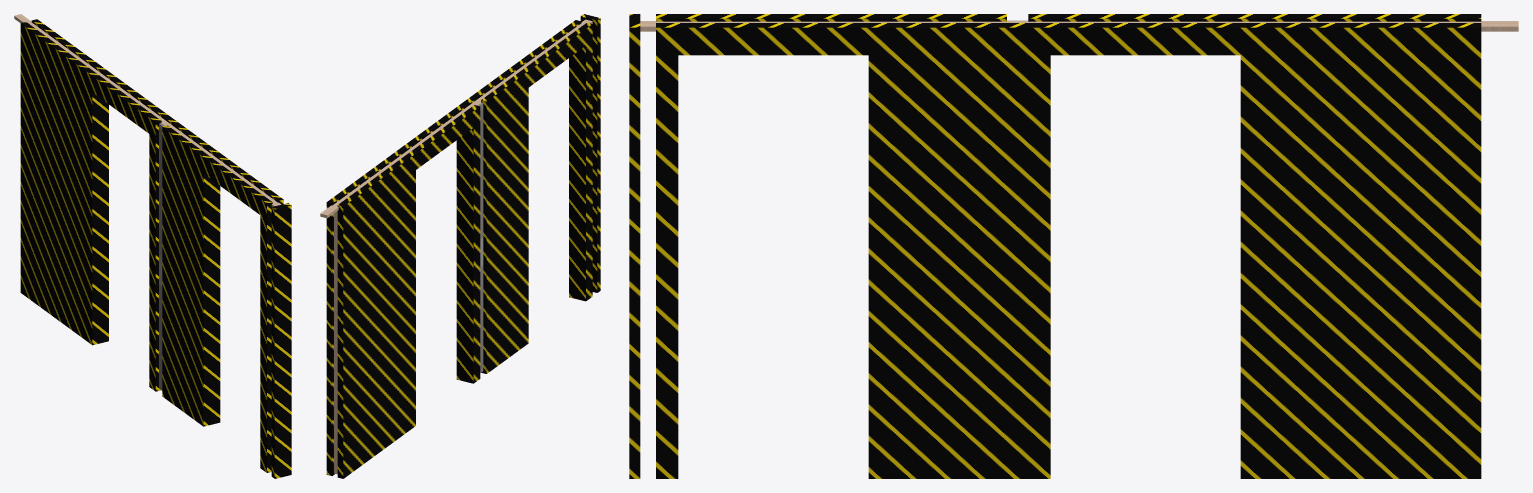
The model's file is WALLSET_L.FBX.
3 renders of one model, left to right at view 1: azimuth 30°, elevation 25°; view 2: azimuth 150°, elevation 25°; view 3: azimuth 270°, elevation 25°, orthographic. The views are drawn at different scales.
Parts seen in each view (by area): view 1: SELECTOR_21, WALL_SET_D03, WALL_SET_D01; view 2: SELECTOR_21, WALL_SET_D03, WALL_SET_D01; view 3: SELECTOR_21, WALL_SET_D03.
Boxes of the visible parts, x1,y1,x2,y2 form: SELECTOR_21: [20, 19, 291, 478]; WALL_SET_D03: [14, 14, 281, 206]; WALL_SET_D01: [159, 123, 163, 390]; SELECTOR_21: [326, 14, 600, 478]; WALL_SET_D03: [320, 19, 592, 474]; WALL_SET_D01: [478, 103, 483, 372]; SELECTOR_21: [629, 14, 1481, 478]; WALL_SET_D03: [640, 21, 1518, 31].
Bounding box in the file's own units: 5.88 × 90.28 × 161.
